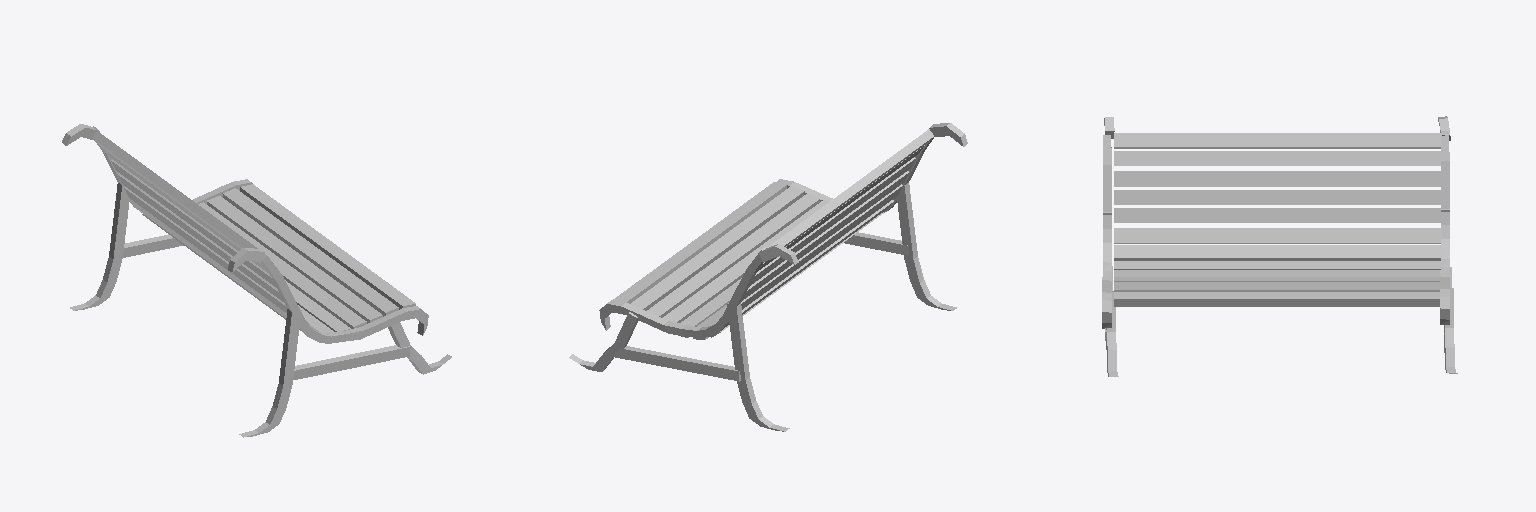
The model's file is bench.obj.
3 views of the same model, side by side, from view 1: azimuth 30°, elevation 25°; view 2: azimuth 150°, elevation 25°; view 3: azimuth 270°, elevation 25° (orthographic).
Parts seen in each view (by area): view 1: Cube_Cube.001; view 2: Cube_Cube.001; view 3: Cube_Cube.001.
Part boxes in pixels (x1,y1,x2,y2): Cube_Cube.001: (62,124,451,437); Cube_Cube.001: (569,123,967,431); Cube_Cube.001: (1102,116,1457,376).
Bounding box in the file's own units: 10.03 × 7.97 × 13.76.